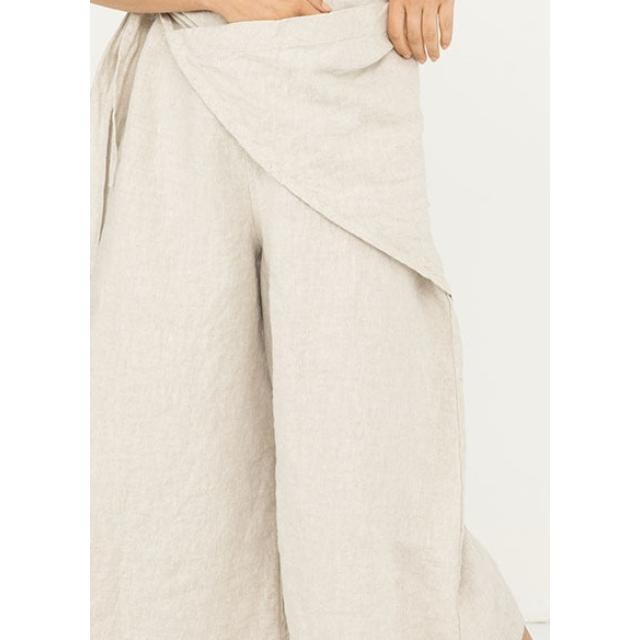linen: (169, 0, 447, 640)
